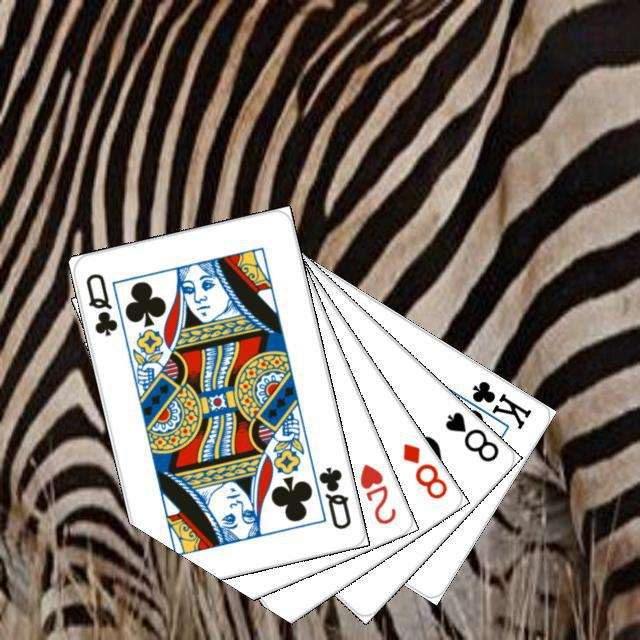2h: (354, 459, 398, 526)
8d: (397, 438, 449, 501)
8s: (440, 406, 501, 464)
Kc: (453, 375, 534, 432)
Qc: (306, 459, 353, 531), (81, 268, 119, 338)
